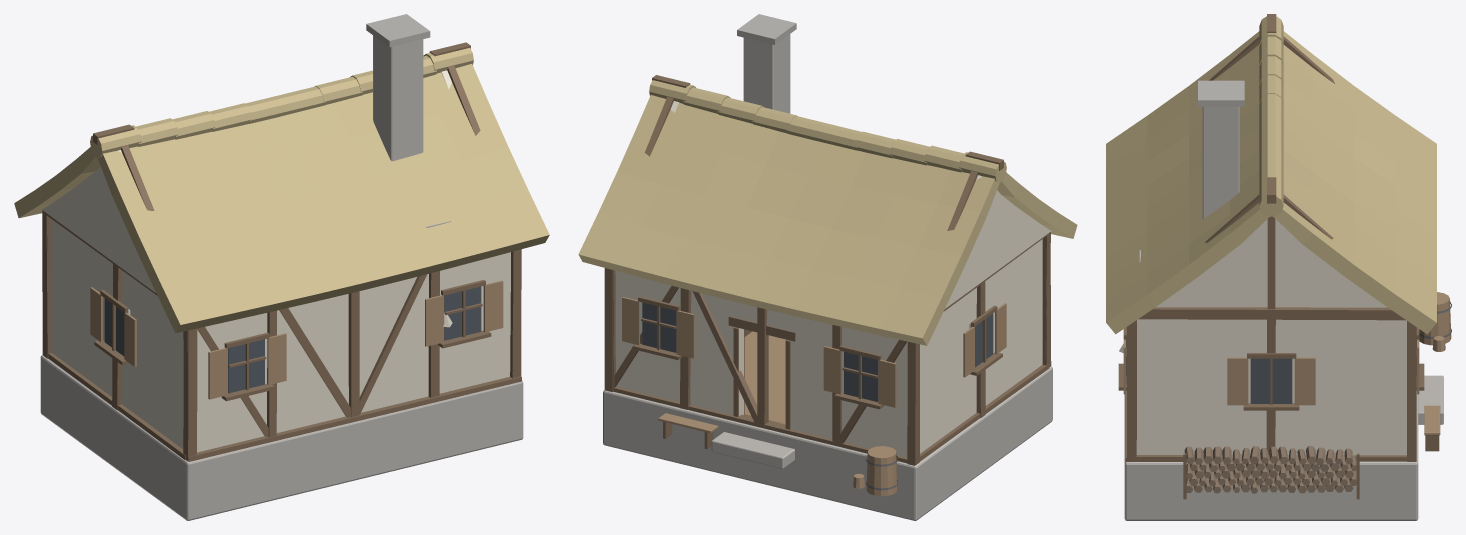
Rendered from house_a.glb.
3 views of the same model, side by side, from view 1: azimuth 30°, elevation 25°; view 2: azimuth 150°, elevation 25°; view 3: azimuth 270°, elevation 25° (orthographic). The views are drawn at different scales.
Visible parts, largest first — view 1: house_a; view 2: house_a; view 3: house_a.
Part boxes in pixels (<box>): house_a: <box>14,14,549,520</box>; house_a: <box>578,14,1077,520</box>; house_a: <box>1106,14,1451,520</box>.
Bounding box in the file's own units: 9.31 × 9.32 × 7.42.
